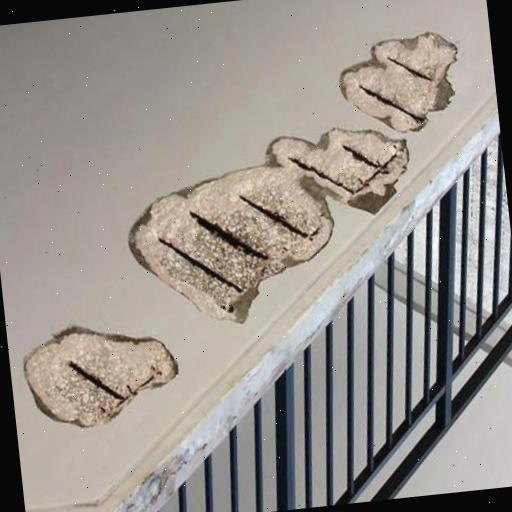spalling: (125, 119, 421, 331), (17, 320, 180, 436), (325, 25, 478, 136)
